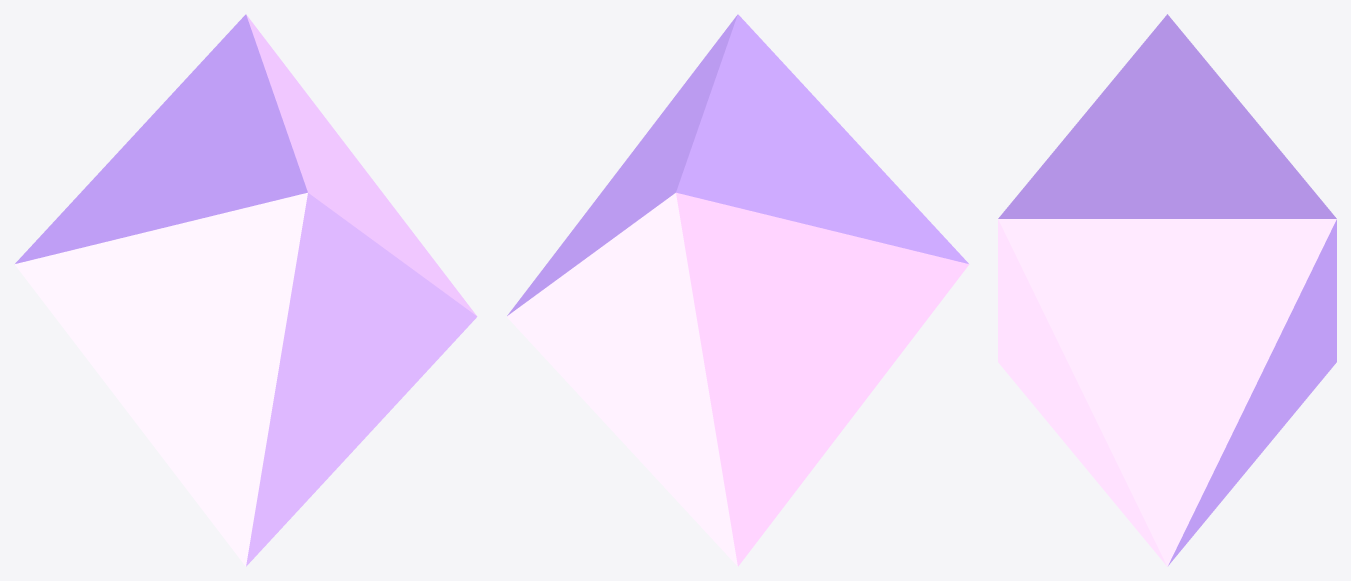
The model's file is umbri_dagger_l.glb.
3 views of the same model, side by side, from view 1: azimuth 30°, elevation 25°; view 2: azimuth 150°, elevation 25°; view 3: azimuth 270°, elevation 25° (orthographic).
Visible parts, largest first — view 1: Pelvis; view 2: Pelvis; view 3: Pelvis.
Boxes of the visible parts, box(x1,y1,x2,y2) form: Pelvis: box(14, 14, 477, 566); Pelvis: box(506, 14, 969, 566); Pelvis: box(998, 14, 1336, 566).
Size of the model in its own units: 1 by 1.8 by 1.
